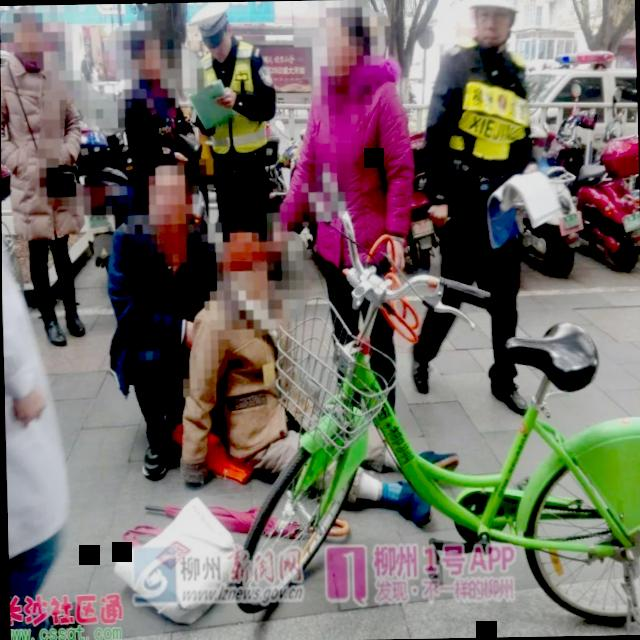Fall-Detected: (174, 196, 464, 564)
